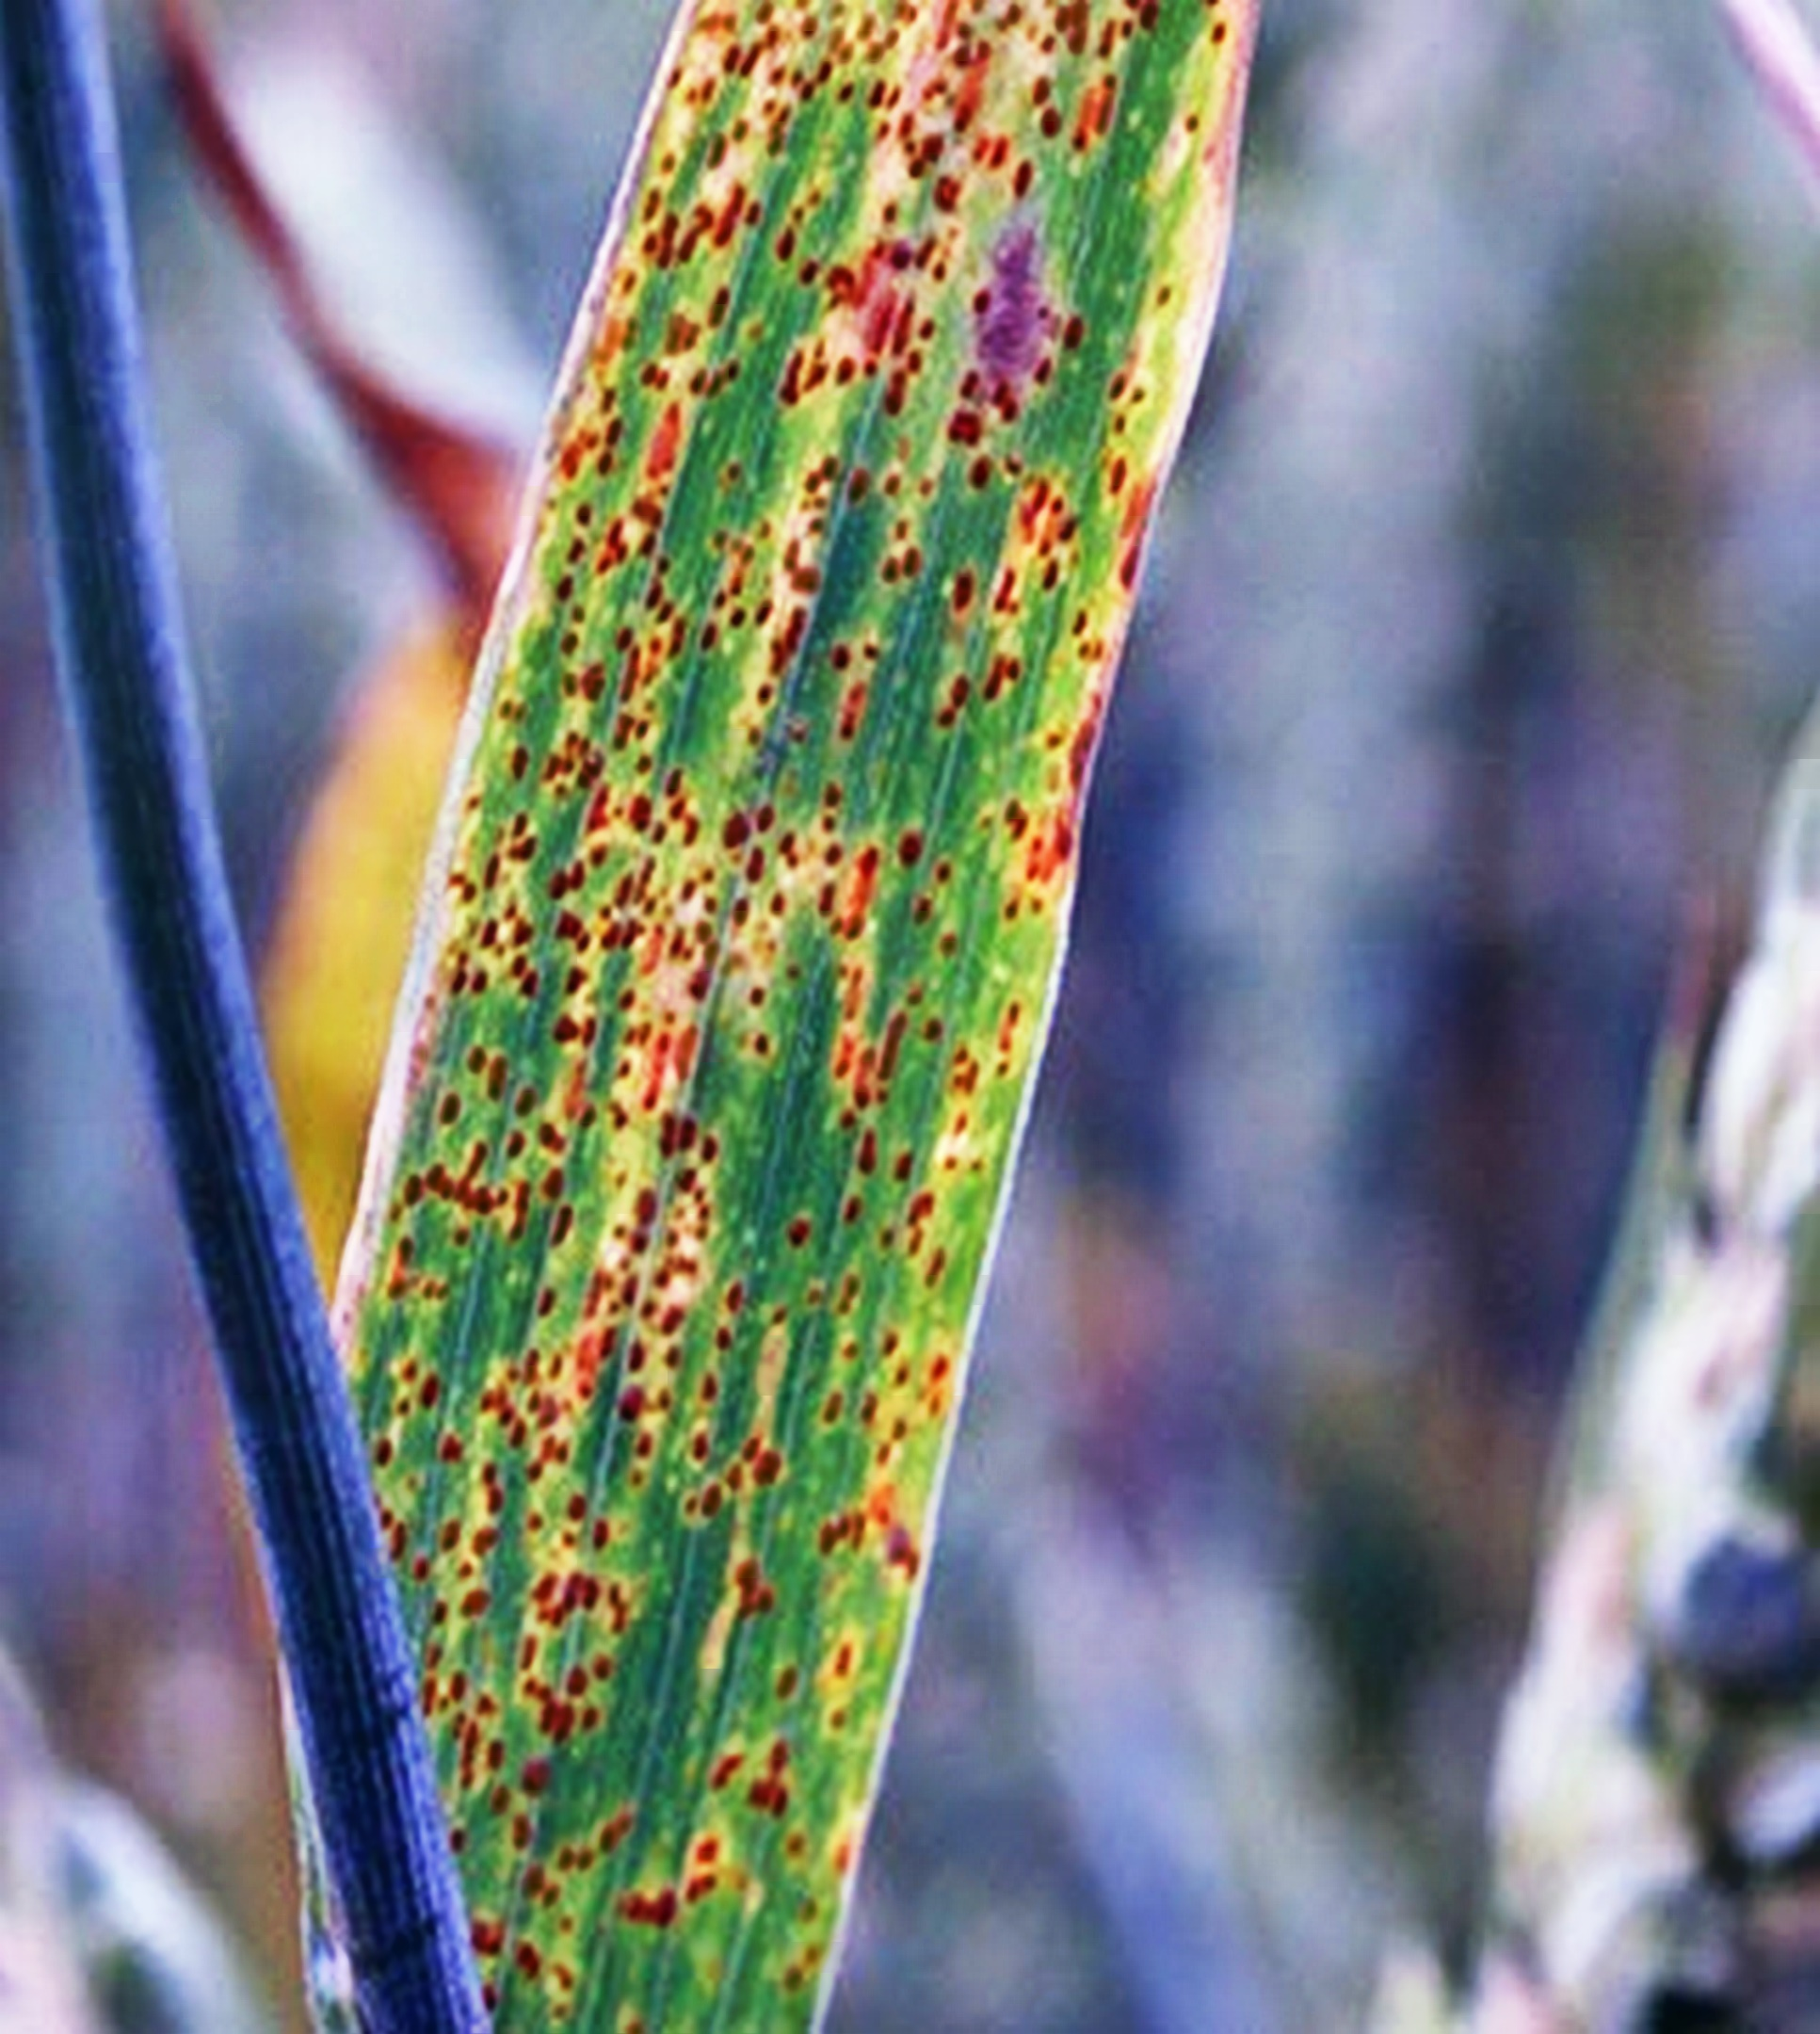Leaf Rust: (420, 5, 1263, 1584)
